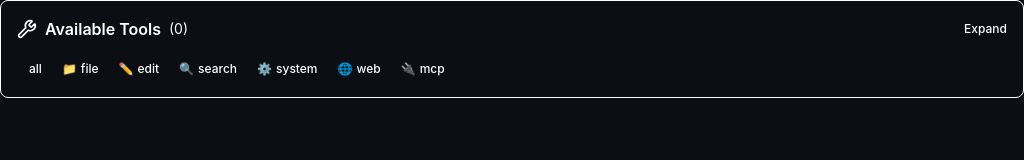
ToolsPanel › toggles expanded state when clicking expand/collapse button
Click to expand
Click the button "Expand". click: (986, 29)
box: [964,21,1007,37]
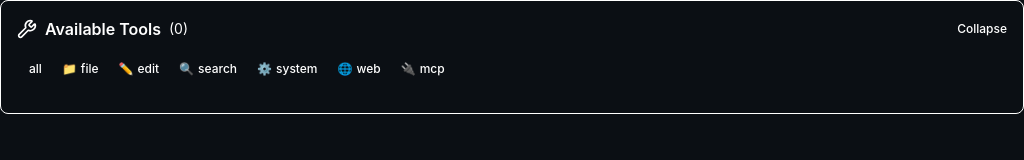
Expected: the button "Collapse" is shown
Click to collapse
Click the button "Collapse". click: (982, 29)
box: [957,21,1007,37]
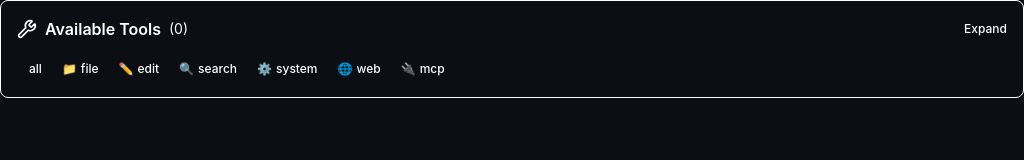
Expected: the button "Expand" is shown, [964,21,1007,37]
